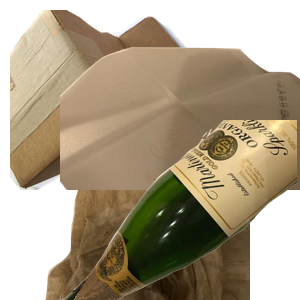cardboard: (10, 10, 206, 190)
glass: (60, 120, 300, 300)
plastic: (60, 44, 300, 224)
trash: (43, 120, 283, 300)
